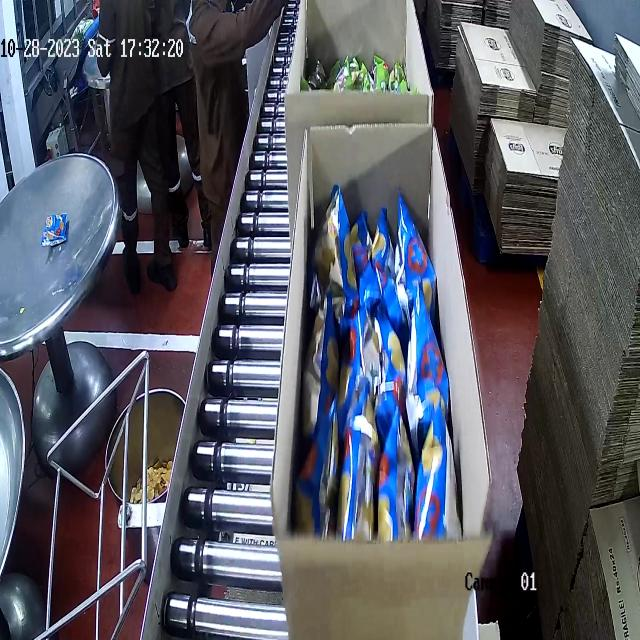PAPRIKA: (310, 188, 458, 548)
YOGURT_HERB: (301, 48, 414, 92)
